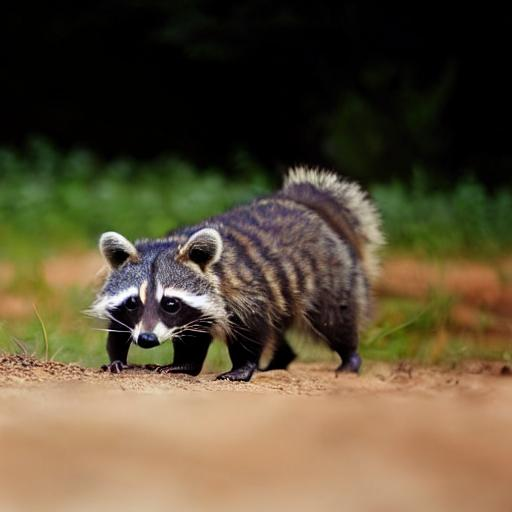raccoon: (75, 156, 395, 380)
